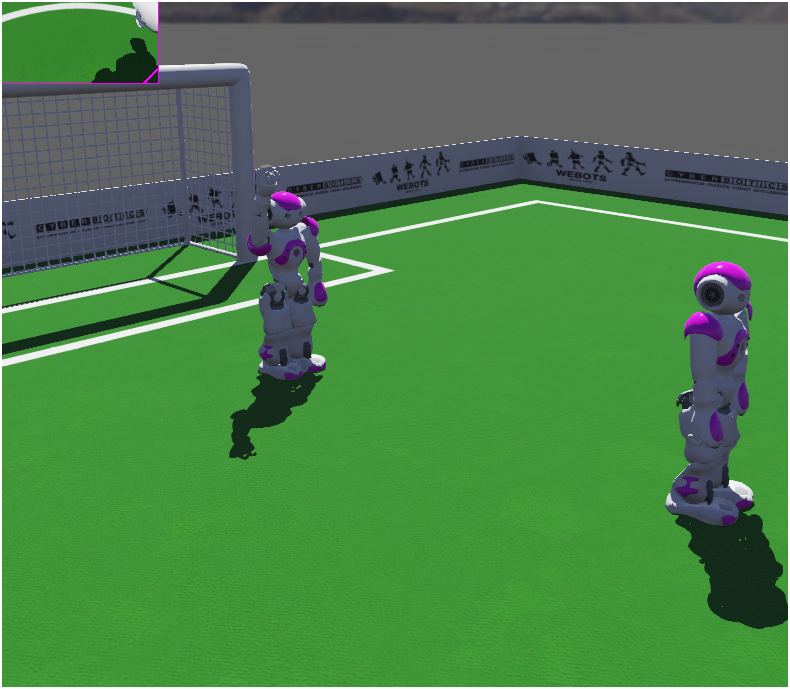Goal: (5, 51, 277, 323)
Player: (637, 257, 784, 510), (225, 187, 332, 434)
